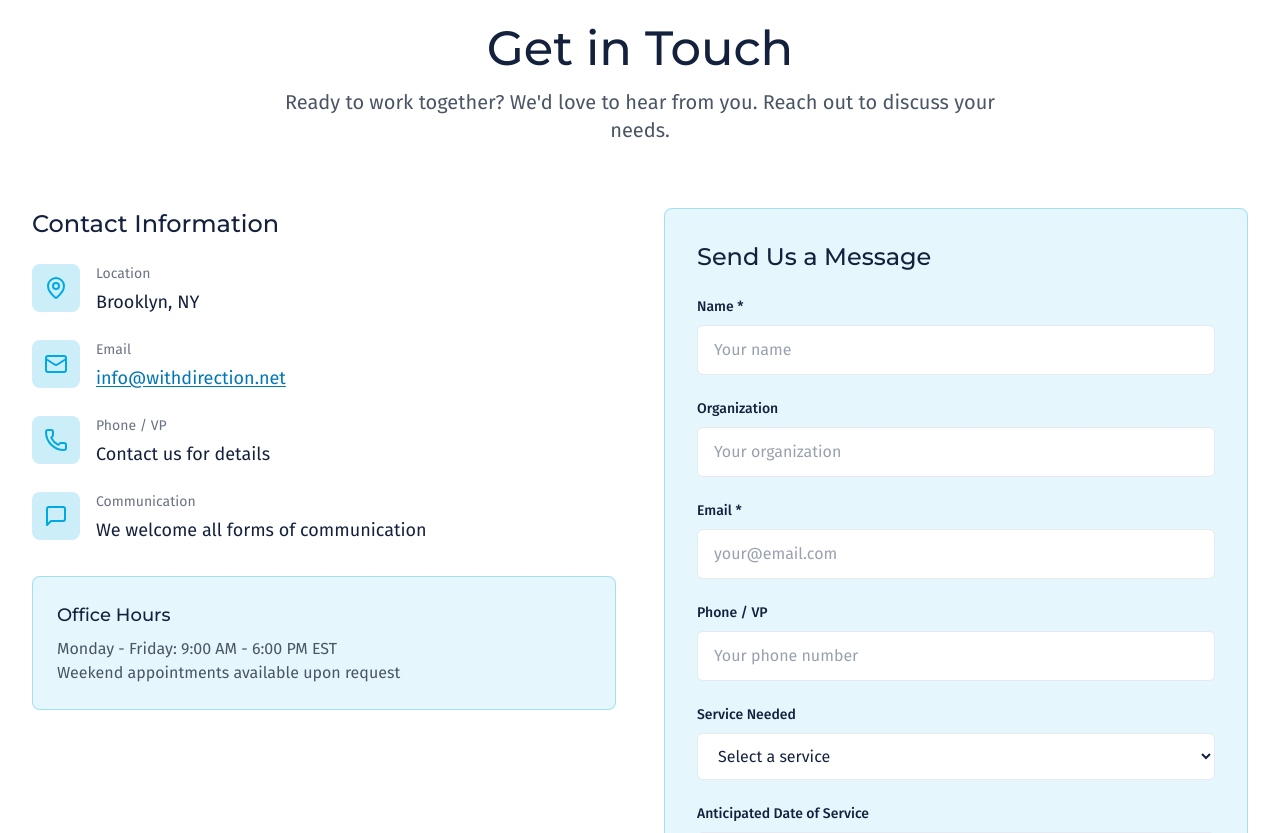
Test case: contact form › keeps what the visitor typed out of the URL
The image size is (1280, 833).
Type "Jordan Reyes" into the field labelled "Name *".
click(956, 350); type("Jordan Reyes")  # box [697,325,1215,375]
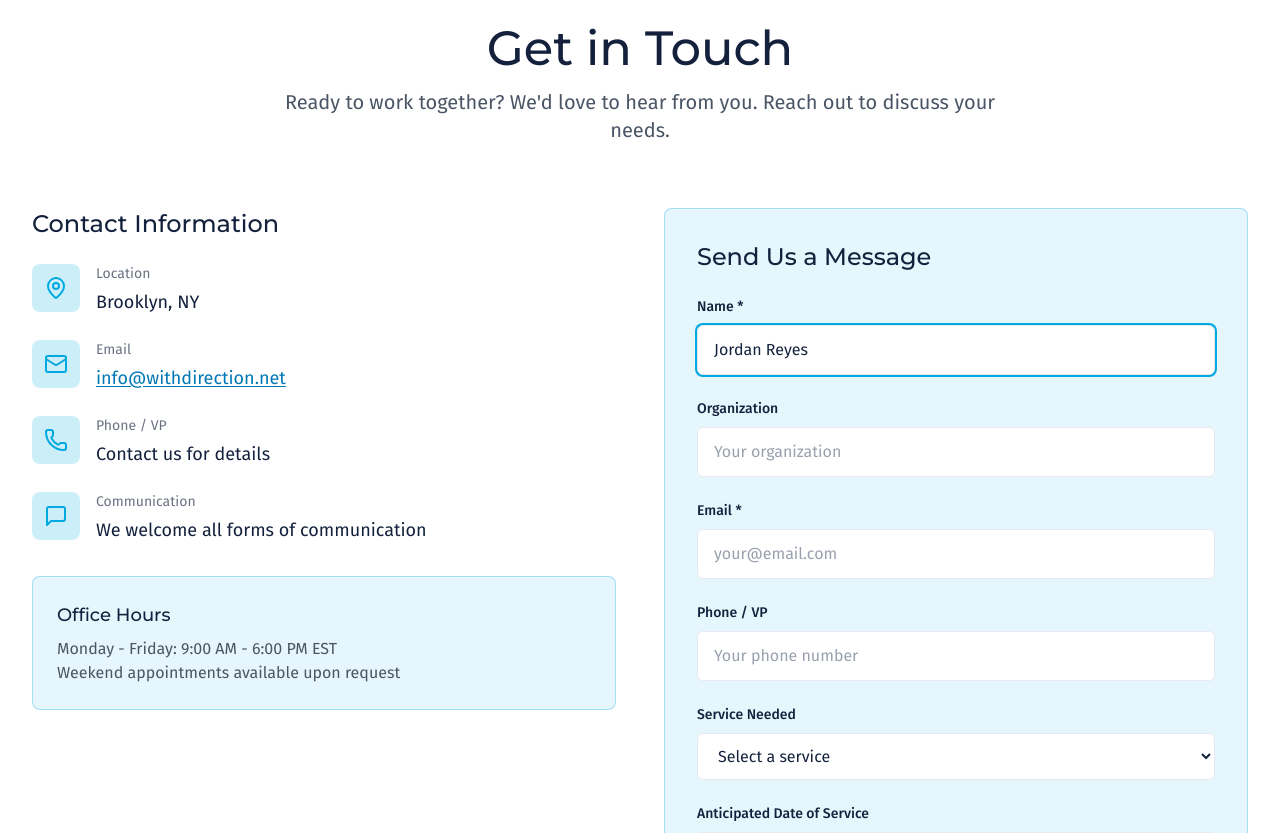
Type "jordan@example.org" into the field labelled "Email *".
click(956, 554); type("jordan@example.org")  # box [697,529,1215,579]
(page scrolled)
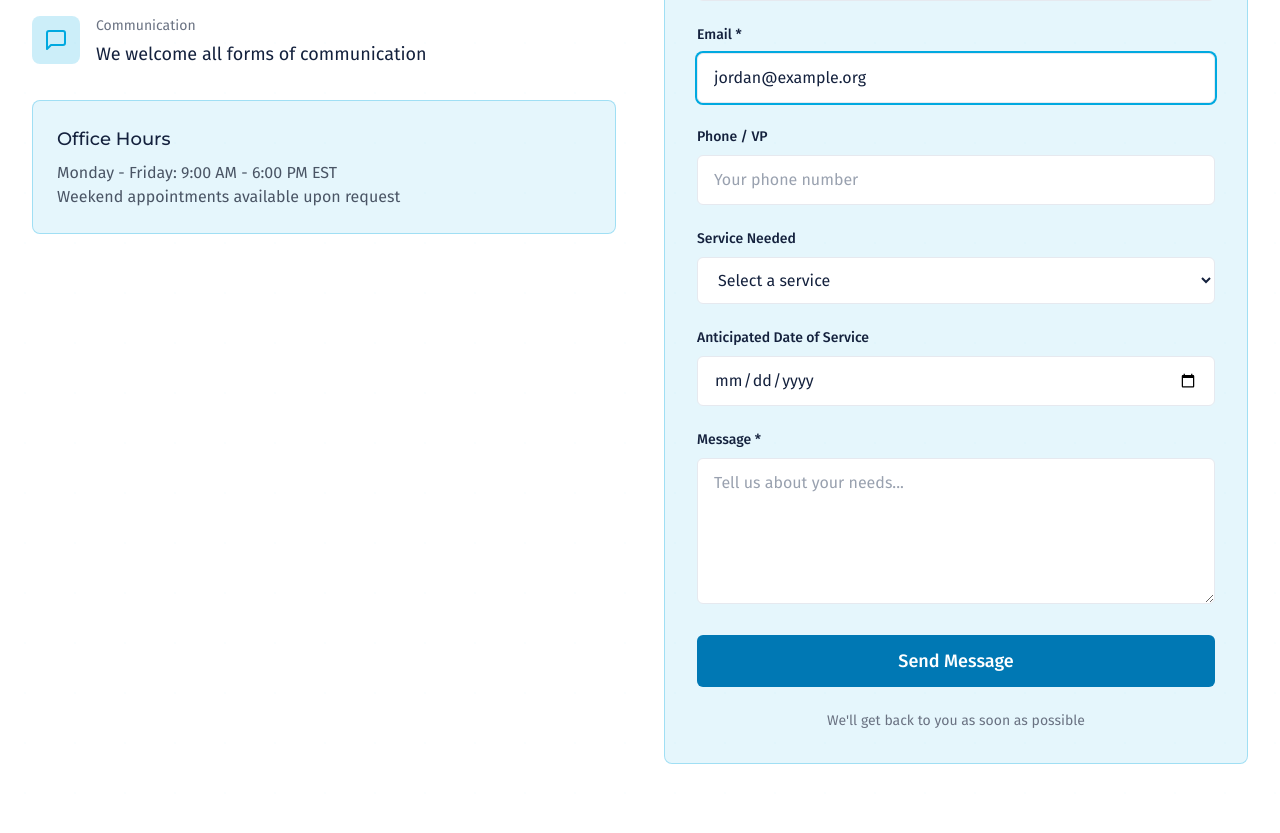
Type "Court hearing, 3 March." into the text box labelled "Message *".
click(956, 531); type("Court hearing, 3 March.")  # box [697,458,1215,604]
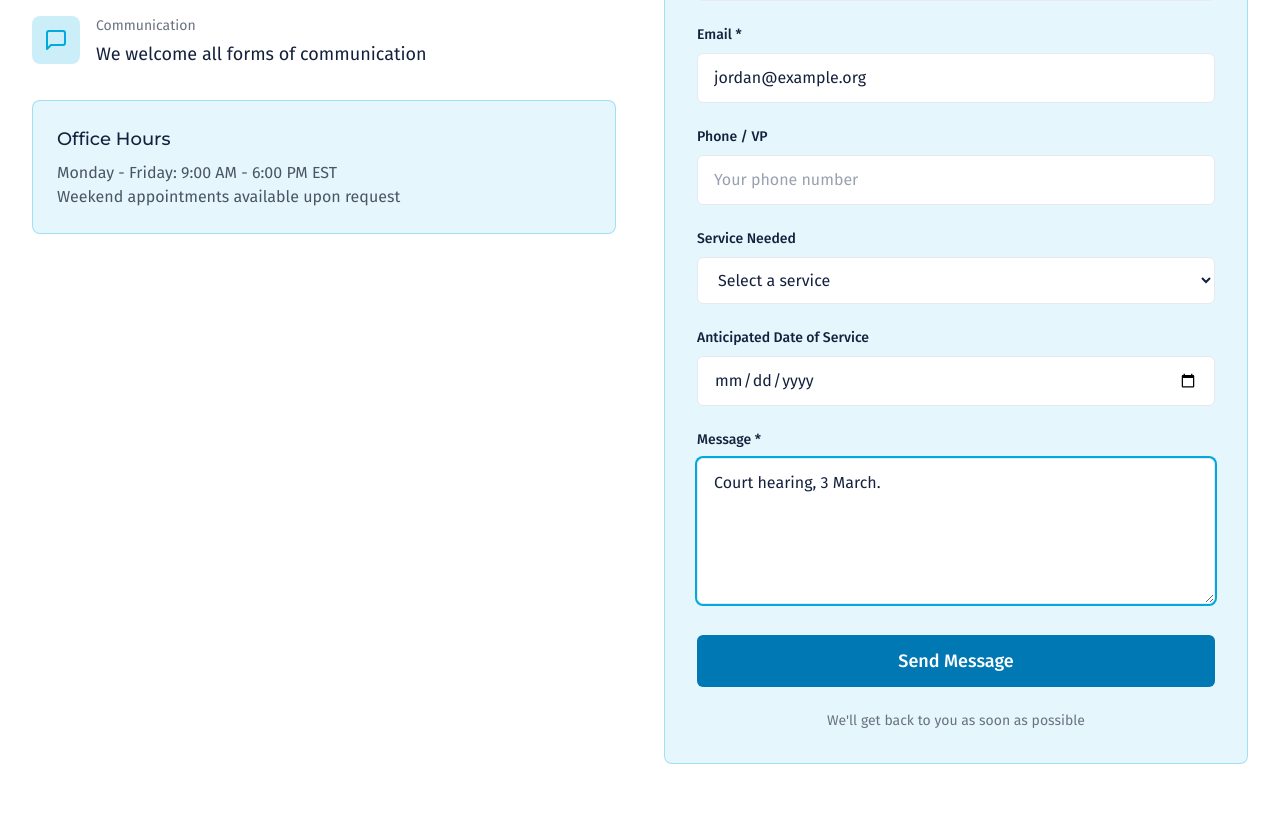
Click the button "Send Message".
click(956, 661)  # box [697,635,1215,687]
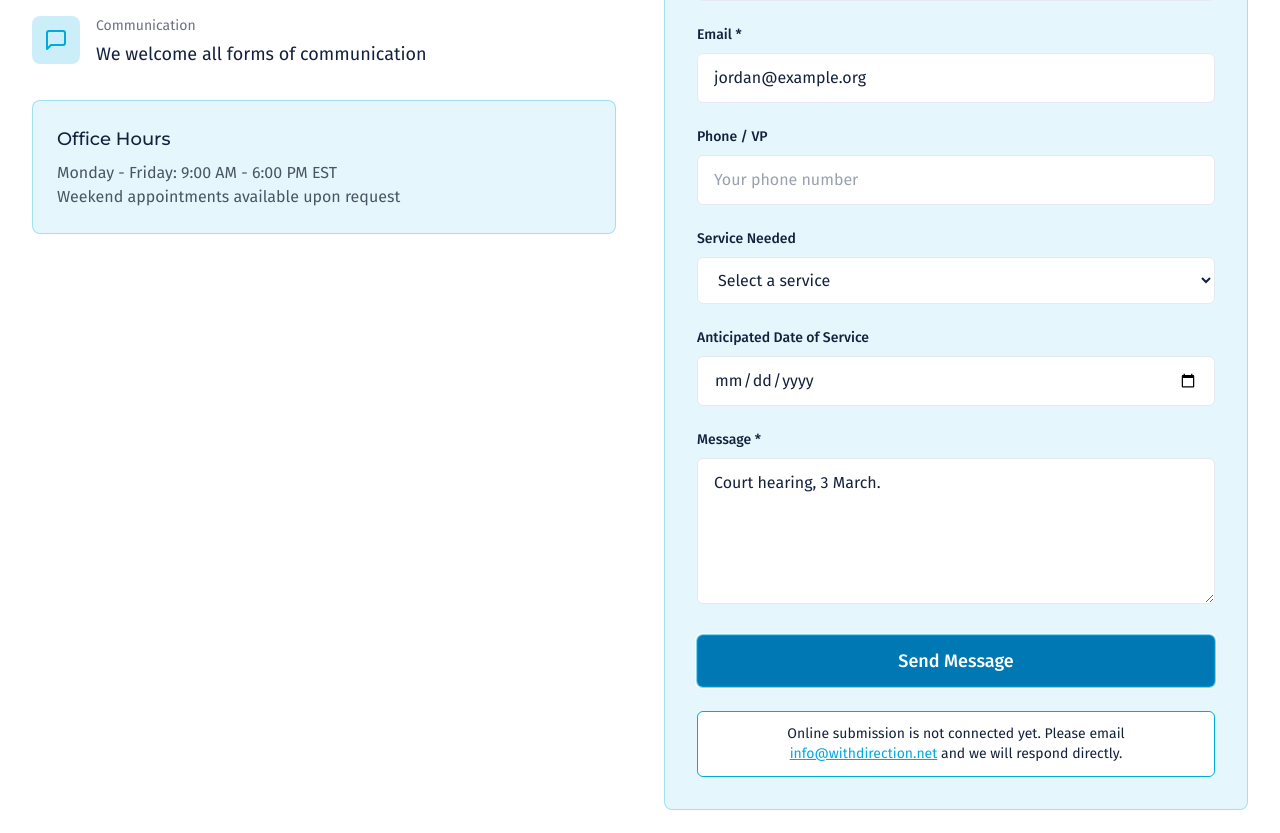
Now the message is shown, box [697,711,1215,777]
